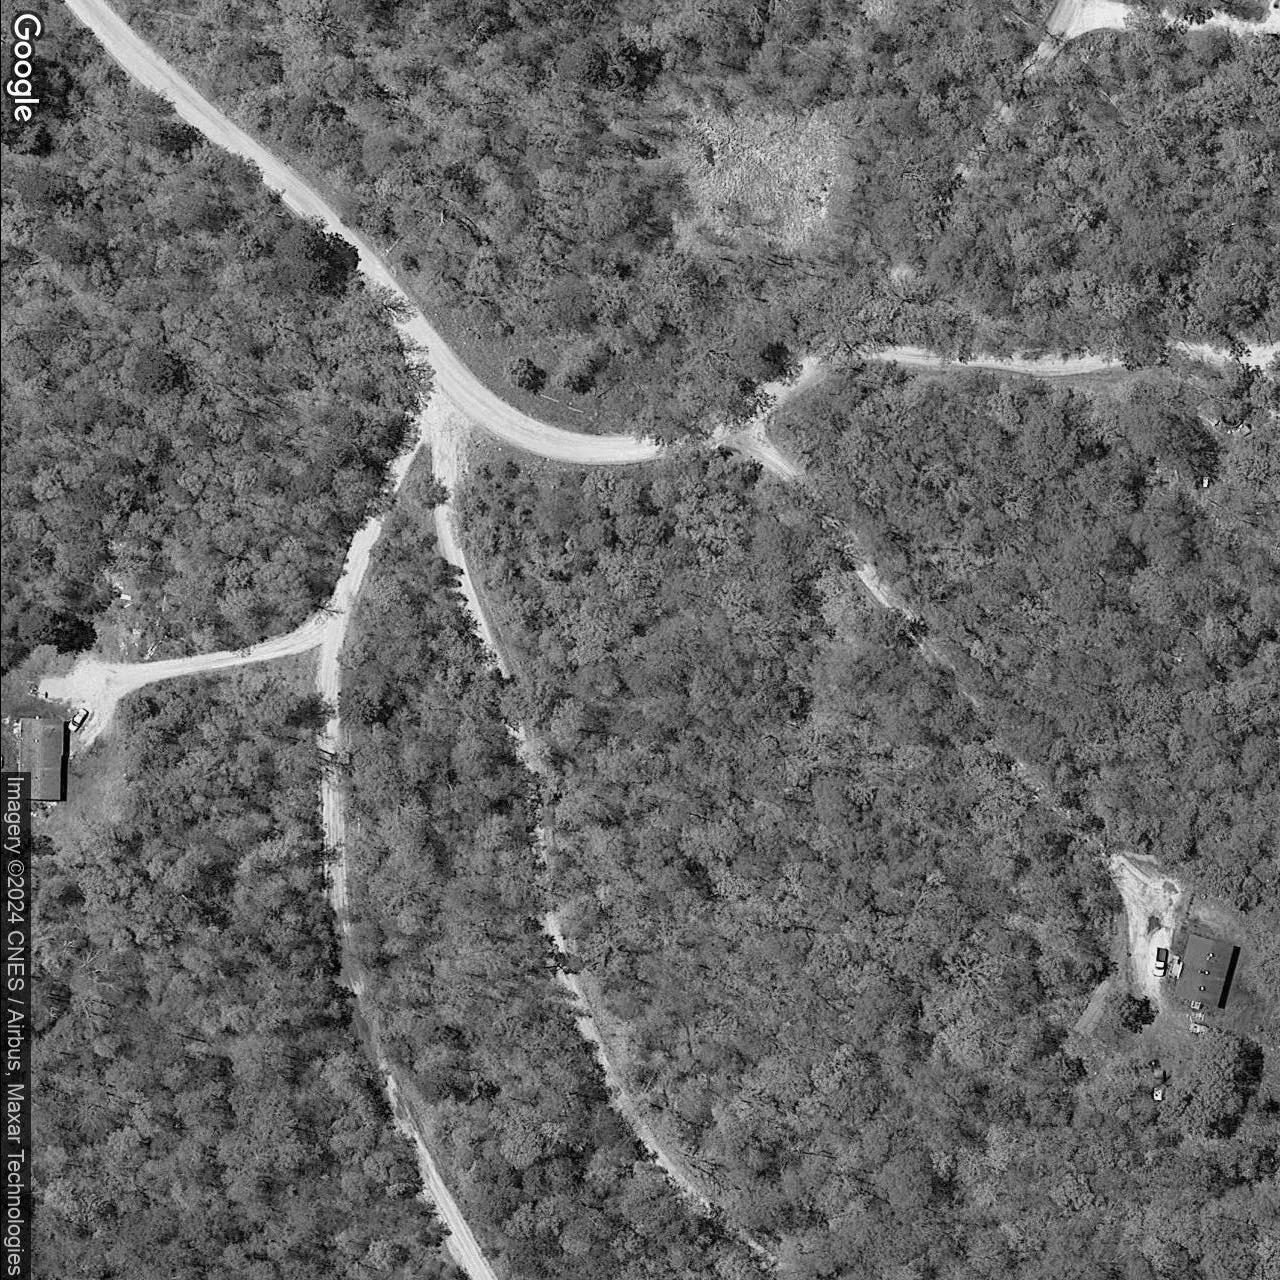House: (1173, 933, 1234, 1007), (19, 716, 63, 802)
